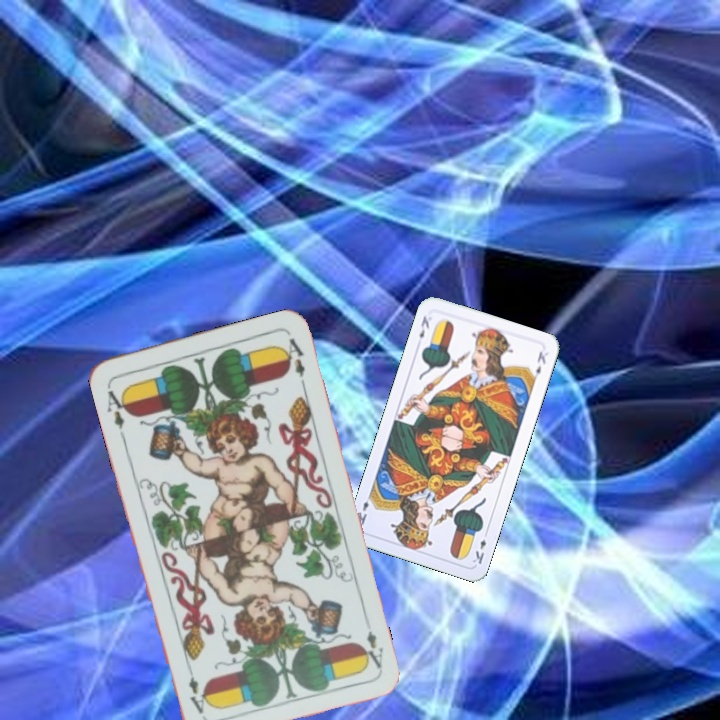EA: (103, 381, 132, 439), (357, 627, 386, 671)
EK: (468, 527, 491, 567), (415, 312, 432, 340)
